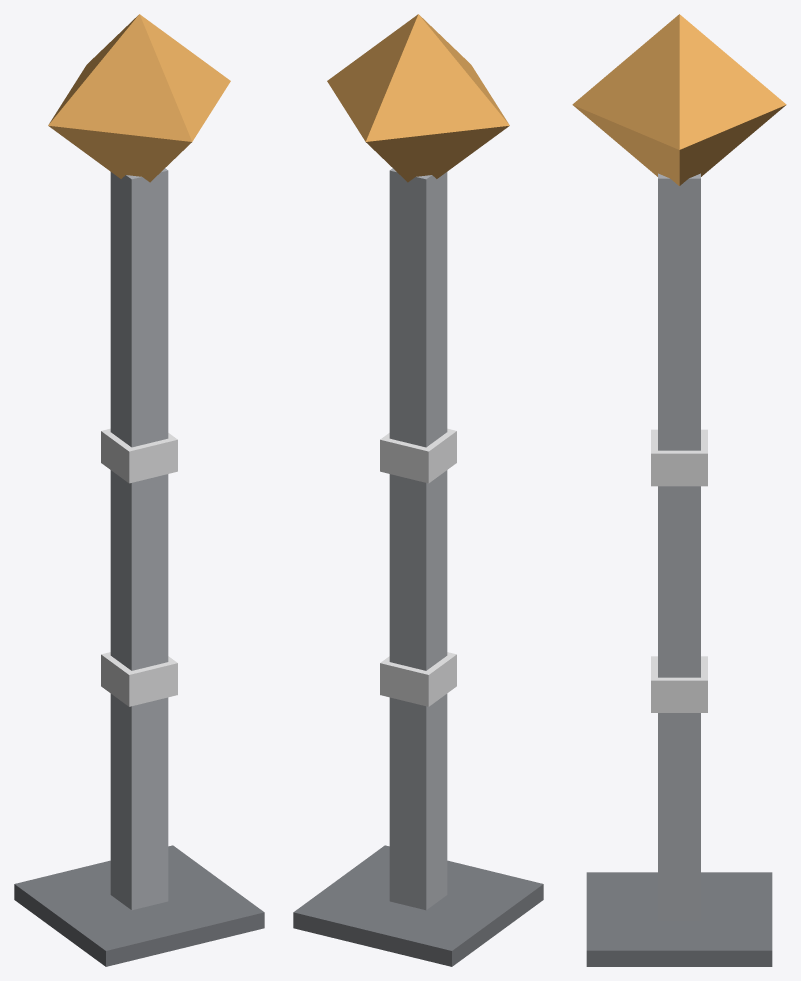
The model's file is modular-greybox-architecture-kit-objective-marker-post-34211f62__22912.glb.
3 renders of one model, left to right at view 1: azimuth 30°, elevation 25°; view 2: azimuth 150°, elevation 25°; view 3: azimuth 270°, elevation 25°, orthographic.
Parts seen in each view (by area): view 1: objective-marker-post; view 2: objective-marker-post; view 3: objective-marker-post.
Part boxes in pixels (x1=…): objective-marker-post: x1=14, y1=14, x2=264, y2=966; objective-marker-post: x1=293, y1=14, x2=543, y2=966; objective-marker-post: x1=572, y1=14, x2=786, y2=966.
Size of the model in its own units: 0.6 by 2.82 by 0.6.
